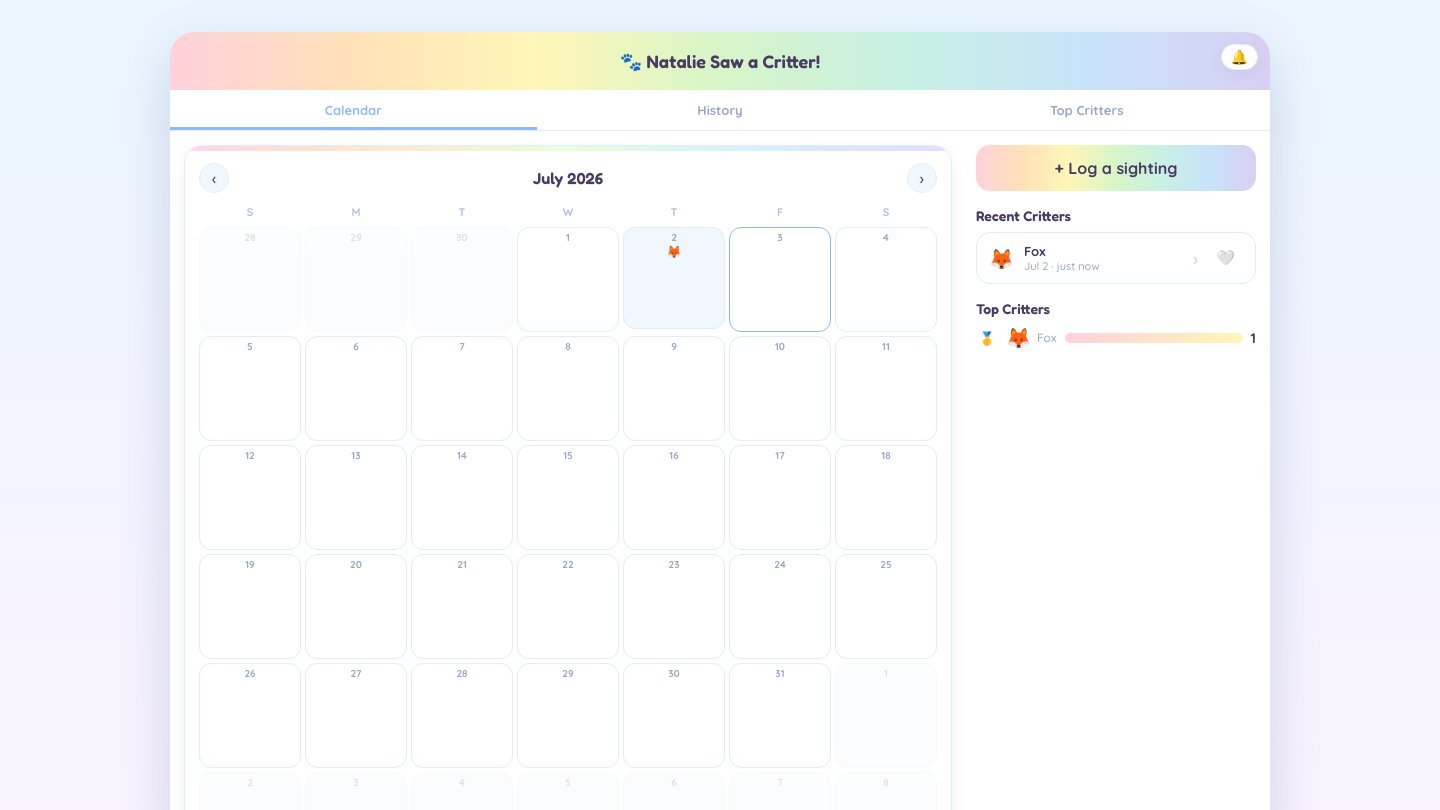
Test: calendar navigation and delete › two-tap delete removes the sighting everywhere and closes the sheet
Click the button named "jul 2," at (674,278), box [623,227,725,329]
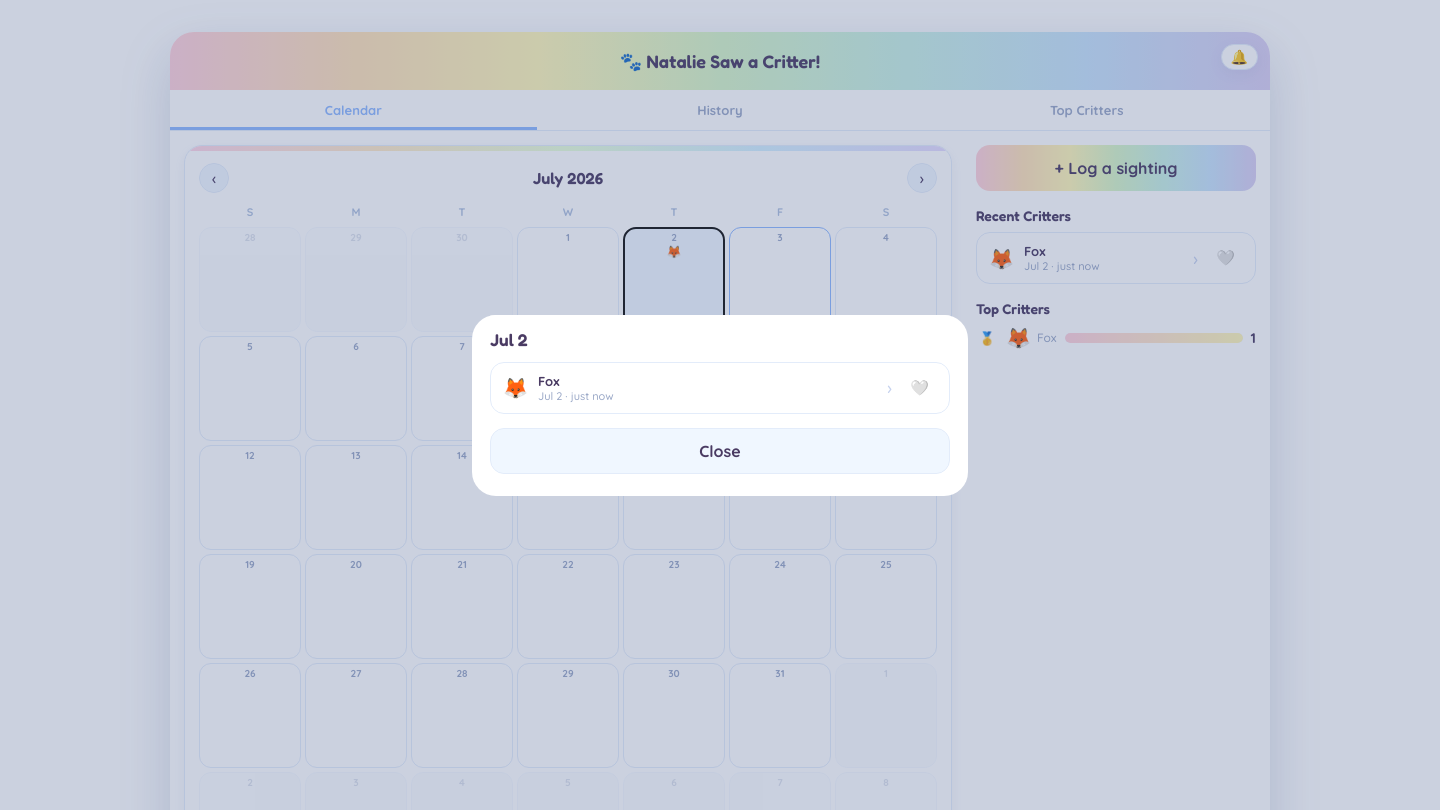
Click the button "🦊 Fox Jul 2 · just now ›" at (576,396), box [503,372,892,402]
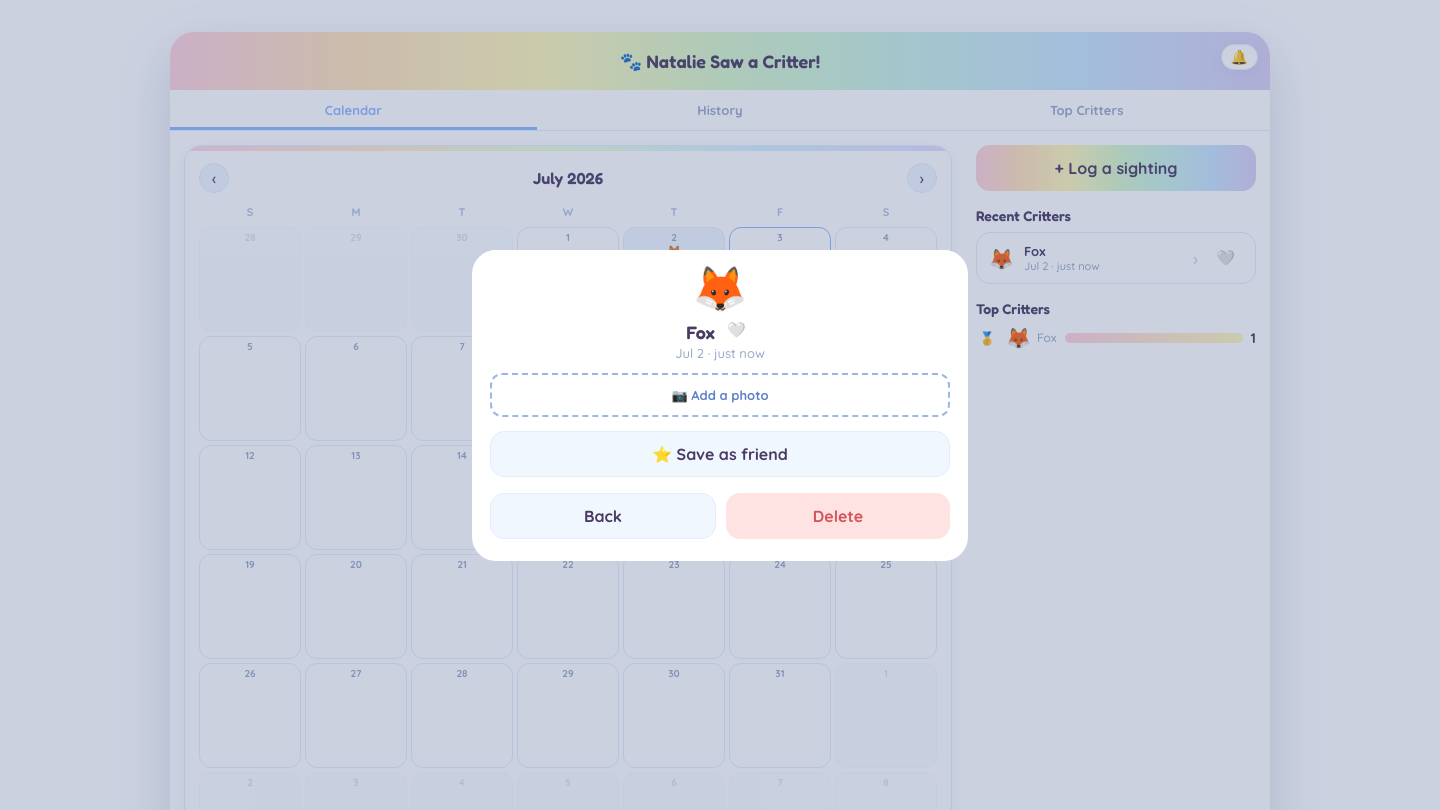
Click the button "Delete" at (838,516), box [726,492,950,538]
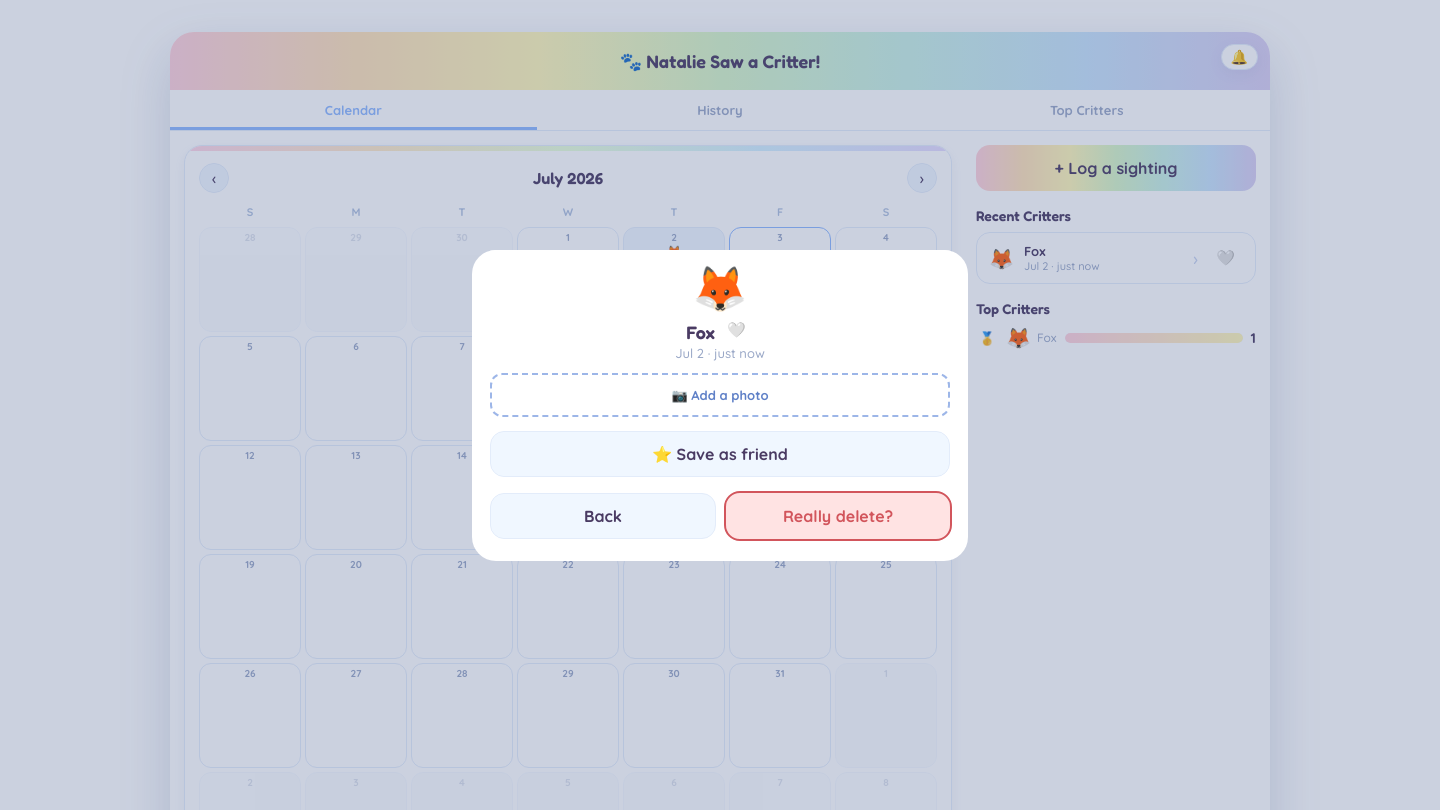
Click the button "Really delete?" at (838,516), box [726,492,950,538]
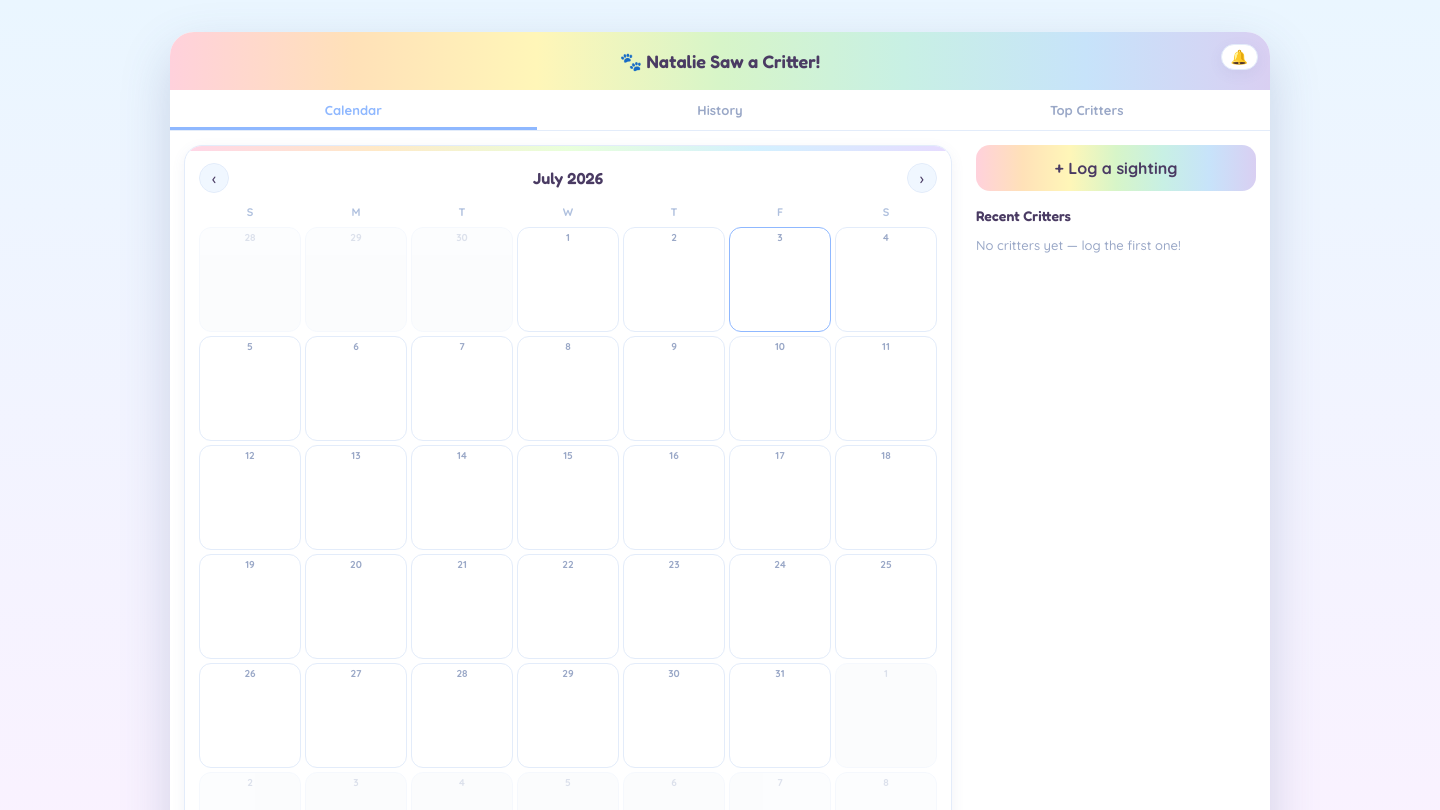
Expected: the dialog is gone
Expected: the button "Fox" is gone
